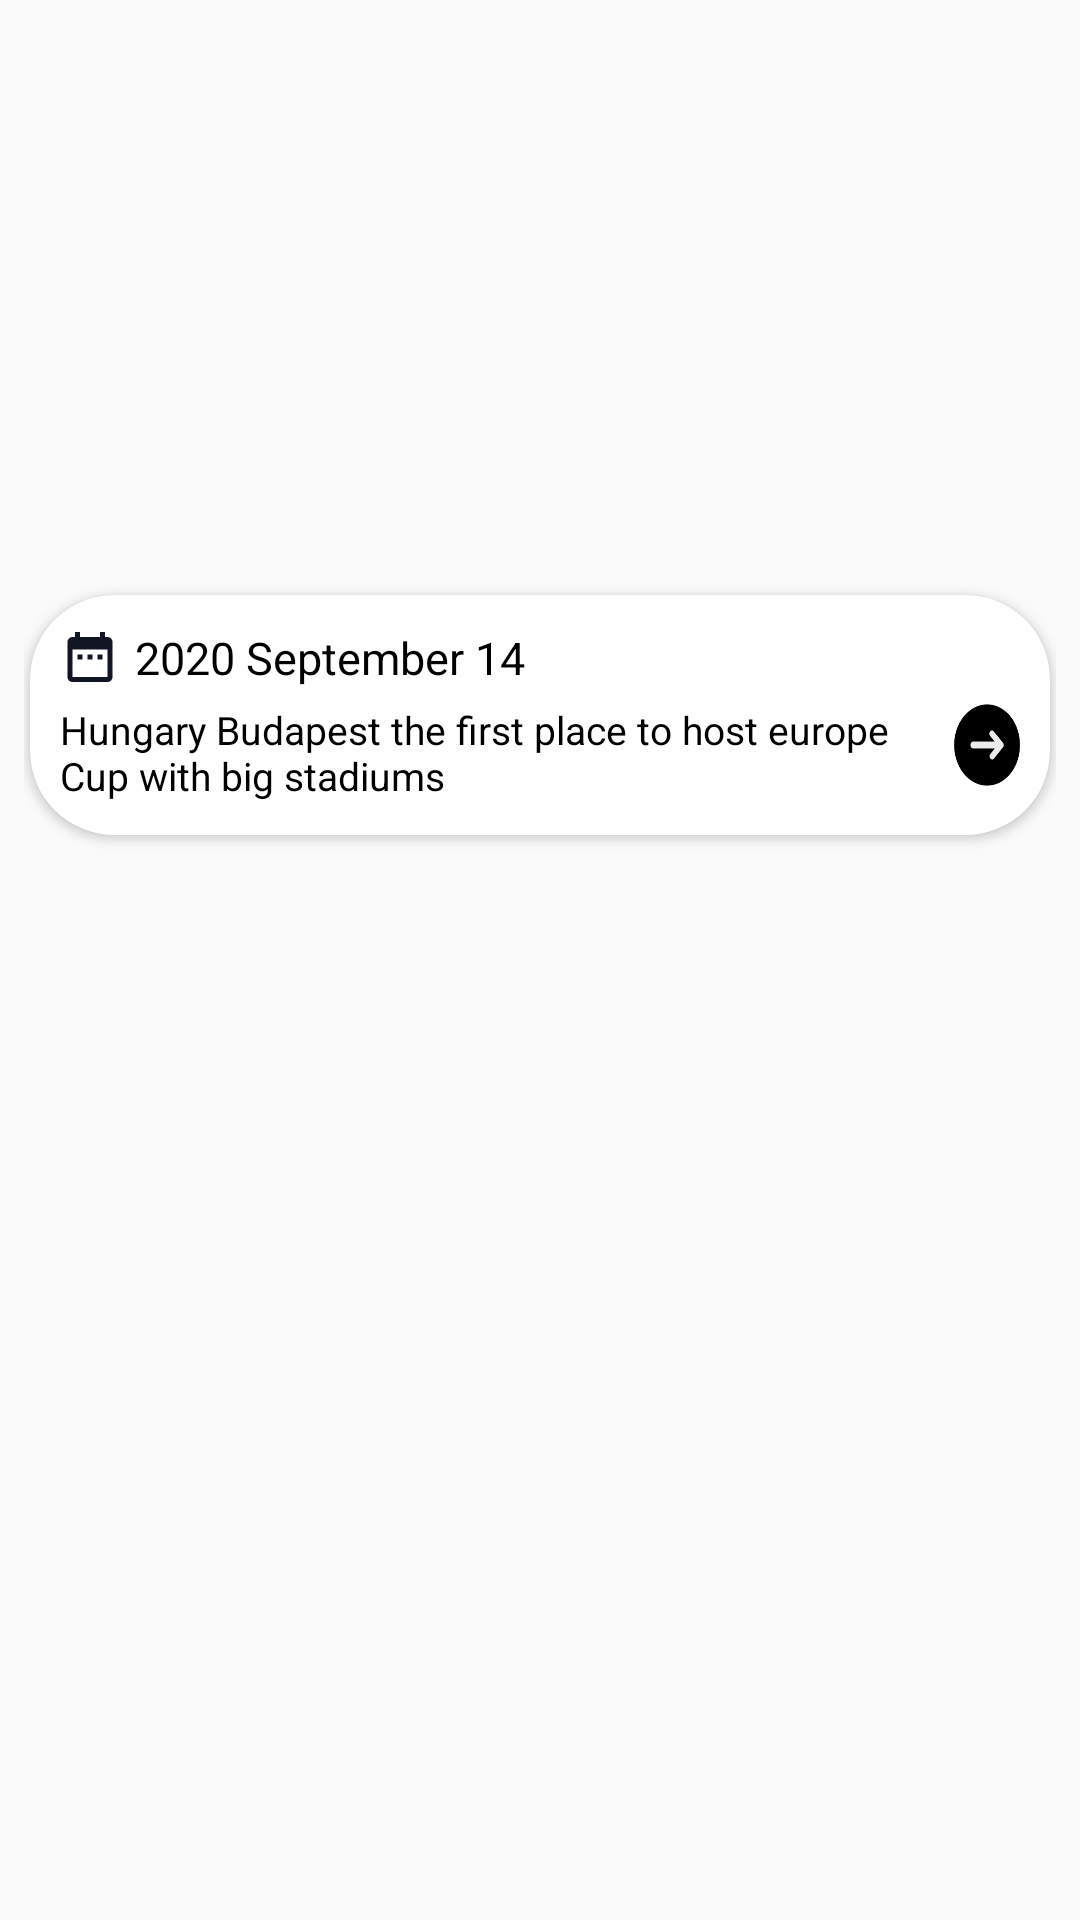

Named icons in this screenshot (1080*1920) and their bounding boxes, (x1, y1, x2, y2):
calendar: (67, 632, 113, 682)
next: (954, 704, 1020, 786)
